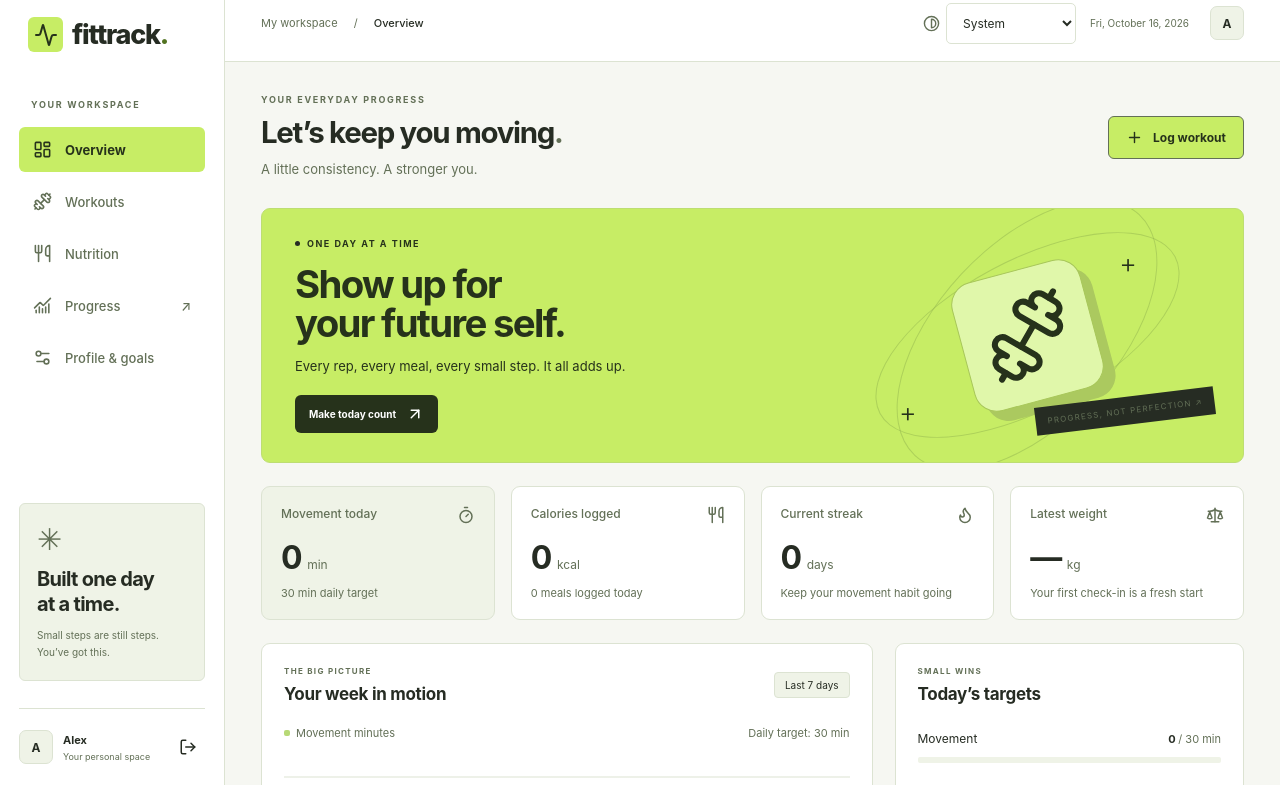
Test case: saves a workout and refreshes dashboard totals from the server response
The width and height of the screenshot is (1280, 785).
Expected: the heading "Let’s keep you moving." is shown, top-left (261, 115), bottom-right (563, 150)
Click the button "Log workout" at (1176, 137), box top-left (1108, 116), bottom-right (1244, 159)
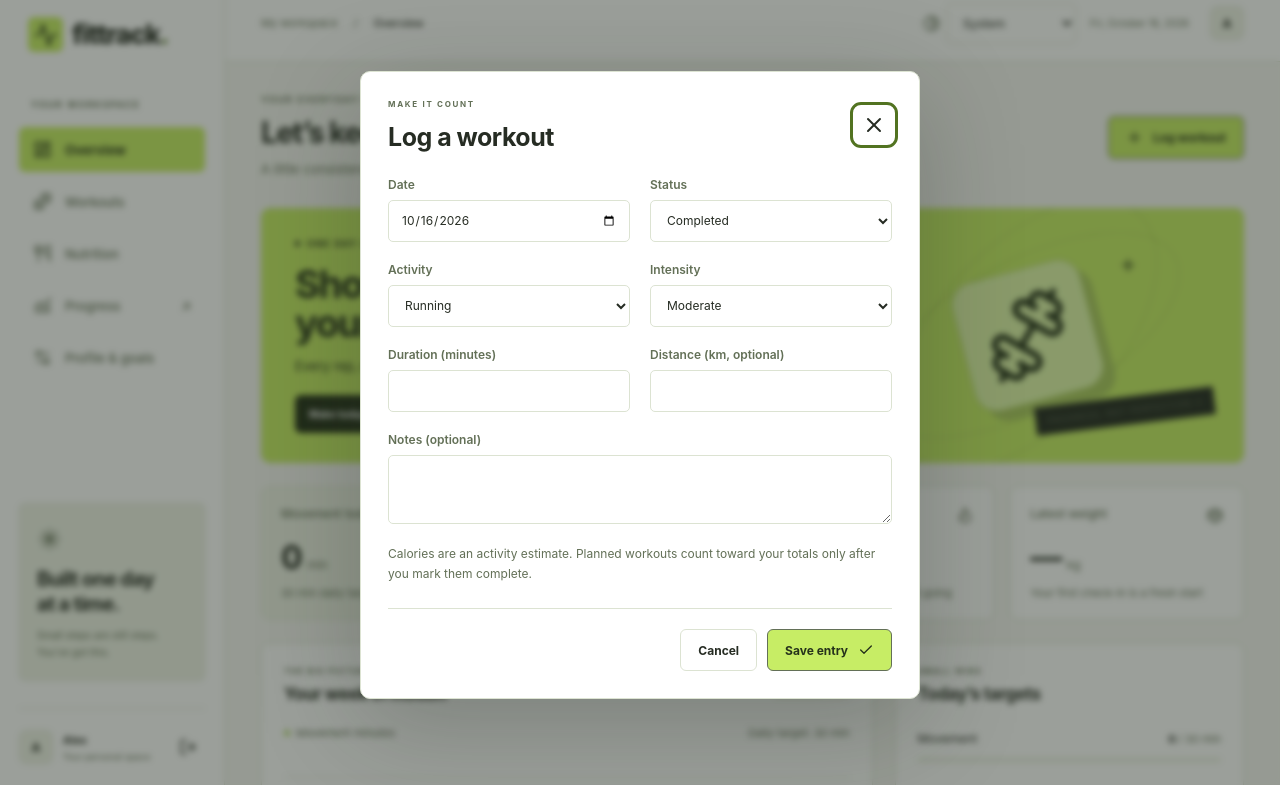
Type "30" into the number field labelled "Duration (minutes)" at (509, 391), box top-left (388, 370), bottom-right (630, 412)
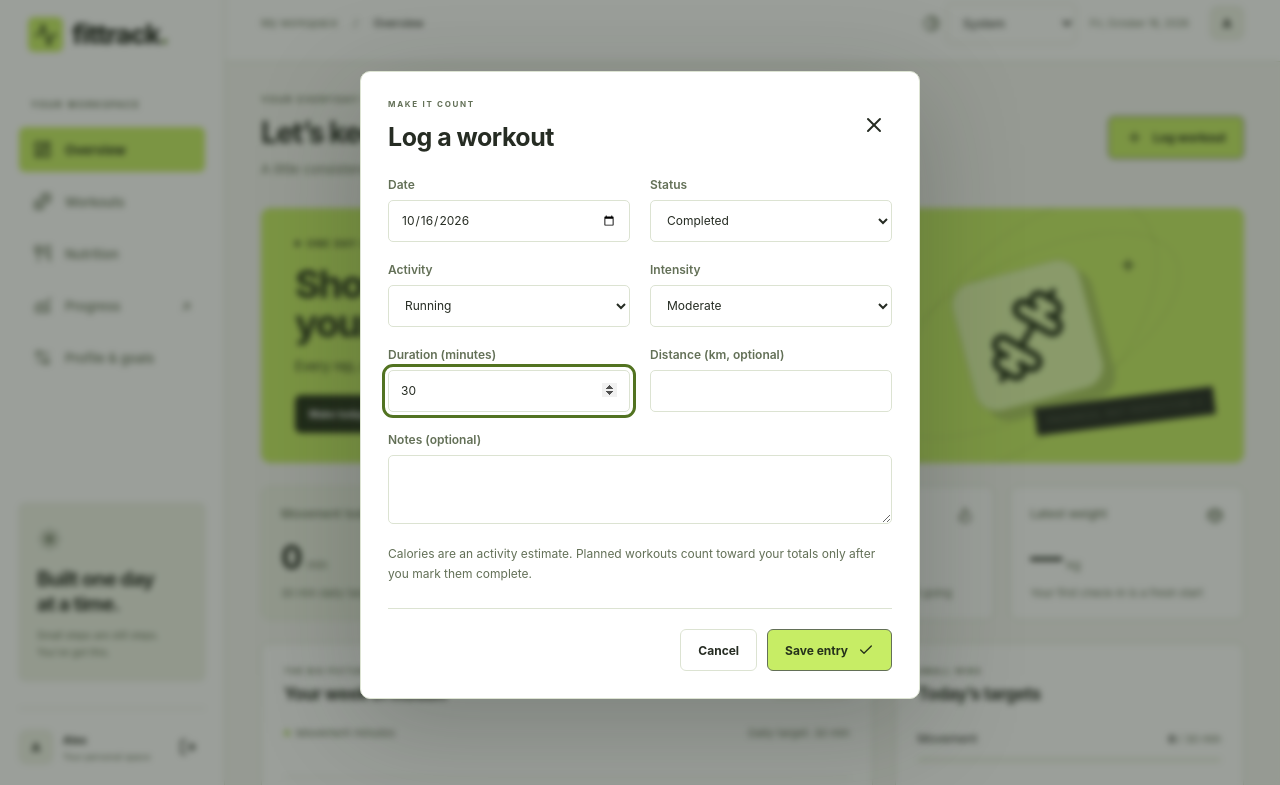
Click the button "Save entry" at (830, 650), box top-left (767, 629), bottom-right (892, 671)
(page scrolled)
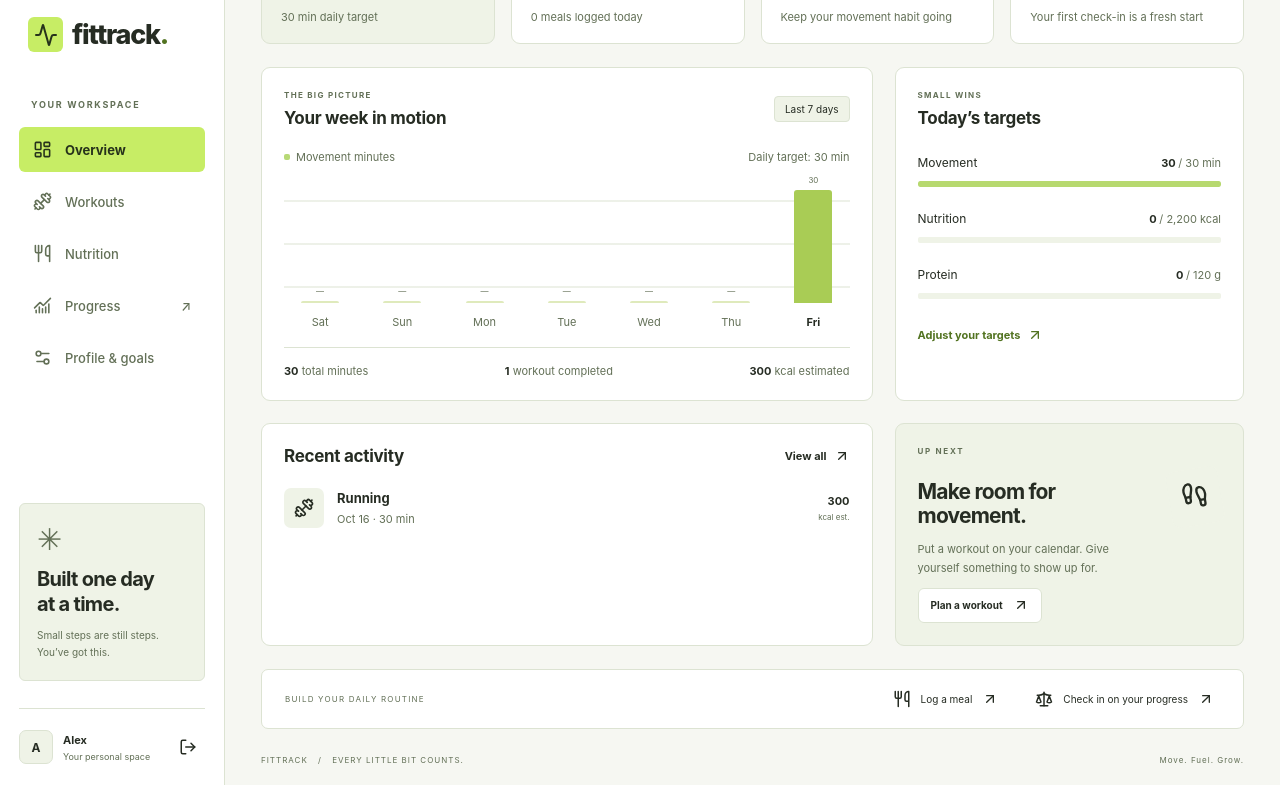
Expected: the dialog is gone
Expected: the text "Running" is shown, top-left (337, 490), bottom-right (390, 506)
